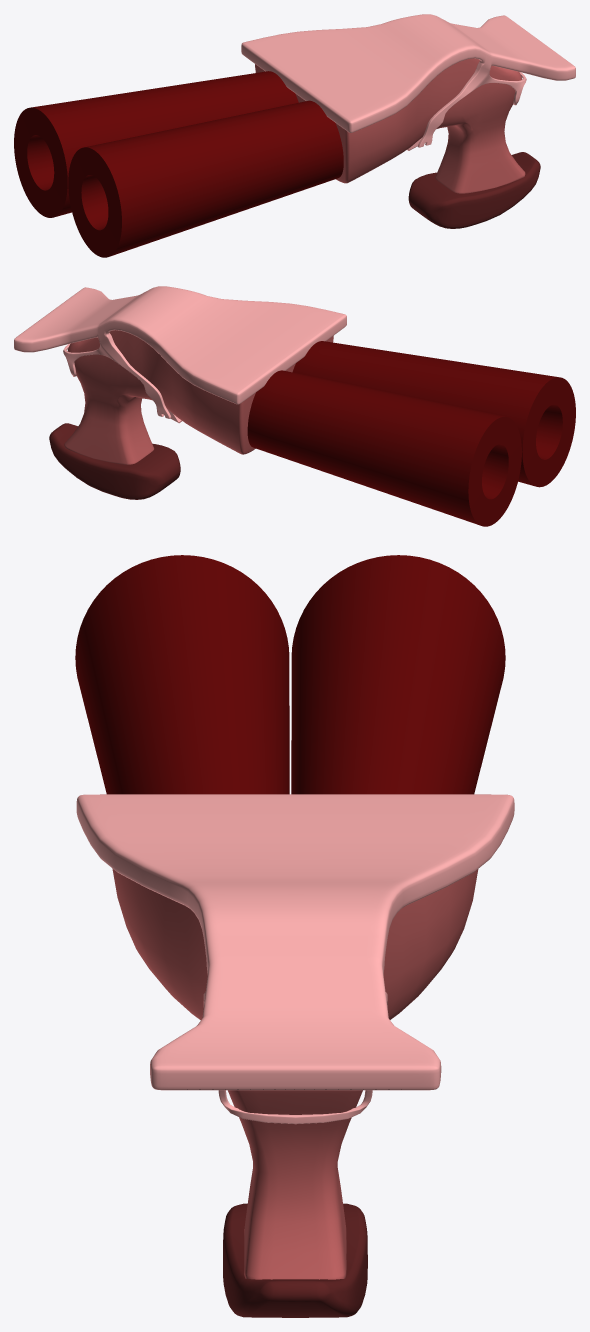
Rendered from EscopetaLowPolyBien.fbx.
The picture shows the model from 3 angles, top to bottom: view 1: azimuth 30°, elevation 25°; view 2: azimuth 150°, elevation 25°; view 3: azimuth 270°, elevation 25°; orthographic projection. The views are drawn at different scales.
Visible parts, largest first — view 1: Cañon, Hongo, Base, Culata; view 2: Cañon, Hongo, Base, Culata; view 3: Cañon, Hongo, Base, Culata.
Part boxes in pixels (x1=…): Cañon: x1=14, y1=71, x2=343, y2=257; Hongo: x1=241, y1=14, x2=575, y2=147; Base: x1=255, y1=58, x2=525, y2=193; Culata: x1=408, y1=152, x2=540, y2=228; Cañon: x1=247, y1=341, x2=575, y2=526; Hongo: x1=14, y1=286, x2=346, y2=418; Base: x1=64, y1=330, x2=333, y2=464; Culata: x1=49, y1=423, x2=180, y2=499; Cañon: x1=75, y1=555, x2=505, y2=794; Hongo: x1=76, y1=794, x2=514, y2=1124; Base: x1=112, y1=868, x2=478, y2=1279; Culata: x1=223, y1=1203, x2=367, y2=1317.
Bounding box in the file's own units: 373 × 140 × 150.
